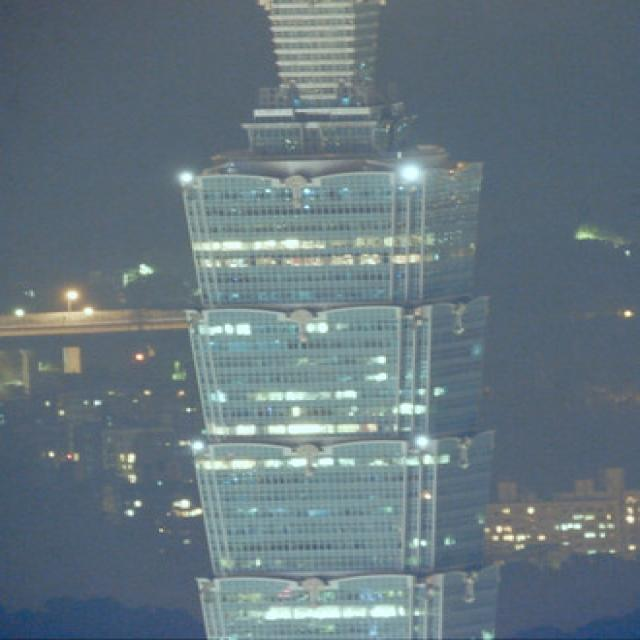building: (167, 0, 512, 640)
